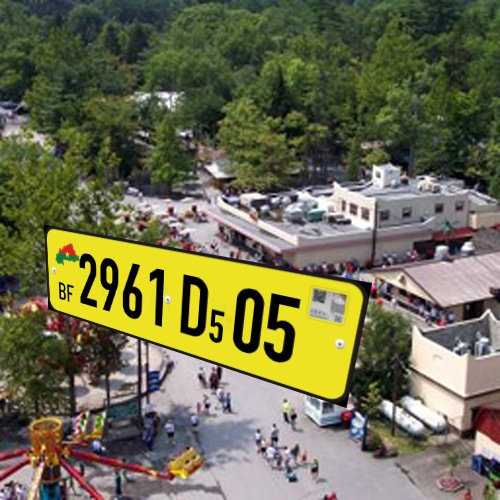plate: (29, 211, 398, 423)
